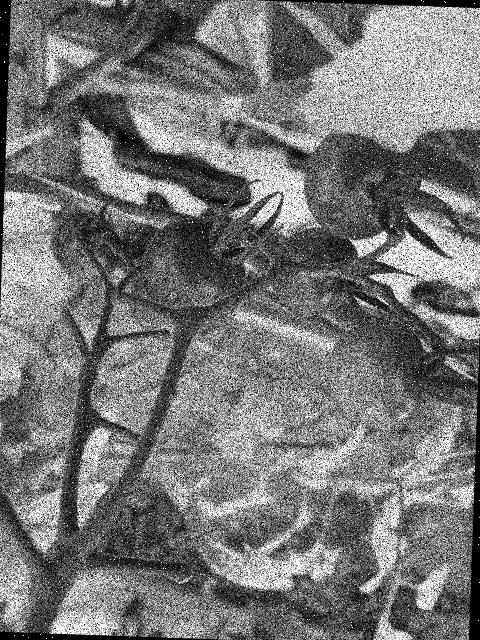l_fully_ripened: (137, 215, 250, 327)
l_green: (302, 130, 424, 242), (325, 317, 431, 431), (269, 225, 359, 317)
